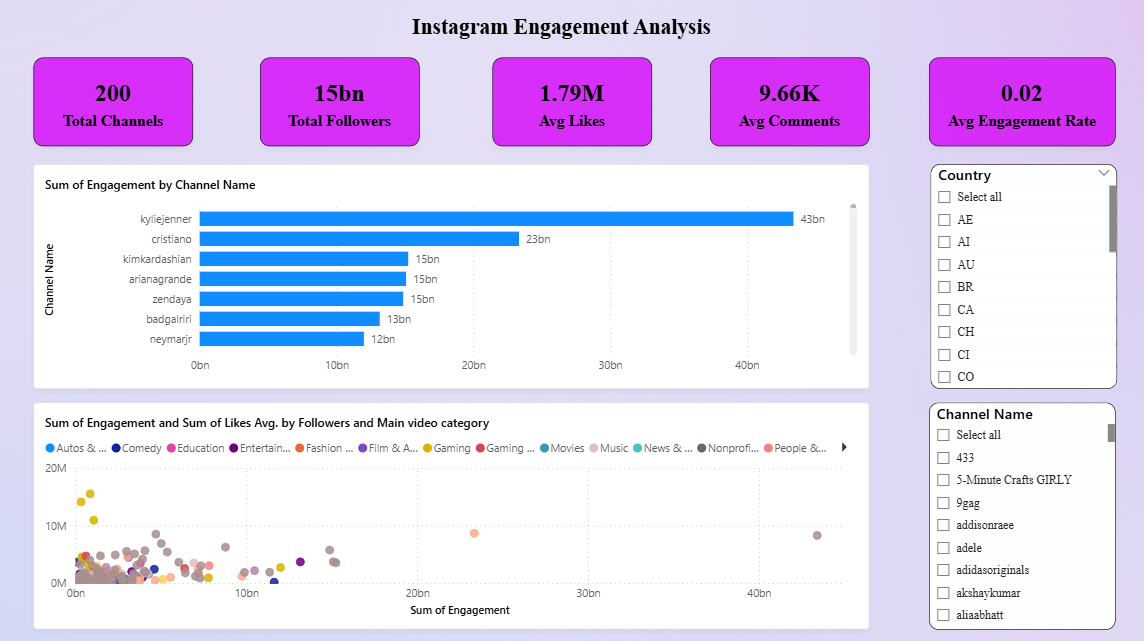

The dashboard page shown, as its layout file describes it:
{"tool":"powerbi","page":{"name":"Page 1","canvas":[1280,720],"ordinal":0},"visuals":[{"type":"barChart","fields":{"Category":["Instagram_data.Channel Name"],"Y":["Sum(Instagram_data.Engagement)"]},"box":[41.7,186.7,928.3,250],"z":0},{"type":"scatterChart","fields":{"Category":["Instagram_data.Followers"],"X":["Sum(Instagram_data.Engagement)"],"Y":["Sum(Instagram_data.Likes Avg.)"],"Series":["Instagram_data.Main video category"]},"box":[41.7,451.7,928.3,251.7],"z":1000},{"type":"slicer","fields":{"Values":["Instagram_data.Country"]},"box":[1038.7,186.2,207.4,249.8],"z":2000},{"type":"slicer","fields":{"Values":["Instagram_data.Channel Name"]},"box":[1037.2,451.2,207.4,252.9],"z":3000},{"type":"card","fields":{"Values":["Instagram_data.Total Channels"]},"box":[40.9,68.1,177.2,98.4],"z":4000},{"type":"card","title":"Folloers","fields":{"Values":["Instagram_data.Total Followers"]},"box":[293.8,68.1,177.2,98.4],"z":5000},{"type":"card","title":"Folloers","fields":{"Values":["Instagram_data.Avg Likes"]},"box":[551.2,68.1,177.2,98.4],"z":6000},{"type":"card","title":"Folloers","fields":{"Values":["Instagram_data.Avg Comments"]},"box":[793.4,68.1,177.2,98.4],"z":7000},{"type":"card","title":"Folloers","fields":{"Values":["Instagram_data.Avg Engagement Rate"]},"box":[1037.2,68.1,207.4,98.4],"z":8000},{"type":"textbox","box":[421.7,15,413.3,53.3],"z":8001}]}

Visuals, with their boxes in screenshot pixels (x1, y1, x2, y2), scaled from the page's 1280x720 canvas onto the 1144x641 screenshot:
barChart - Instagram_data.Channel Name x Sum(Instagram_data.Engagement): [37, 166, 867, 389]
scatterChart - Instagram_data.Followers x Sum(Instagram_data.Engagement): [37, 402, 867, 626]
slicer - Instagram_data.Country: [928, 166, 1114, 388]
slicer - Instagram_data.Channel Name: [927, 402, 1112, 627]
card - Instagram_data.Total Channels: [37, 61, 195, 148]
"Folloers" card: [263, 61, 421, 148]
"Folloers" card: [493, 61, 651, 148]
"Folloers" card: [709, 61, 867, 148]
"Folloers" card: [927, 61, 1112, 148]
textbox: [377, 13, 746, 61]
